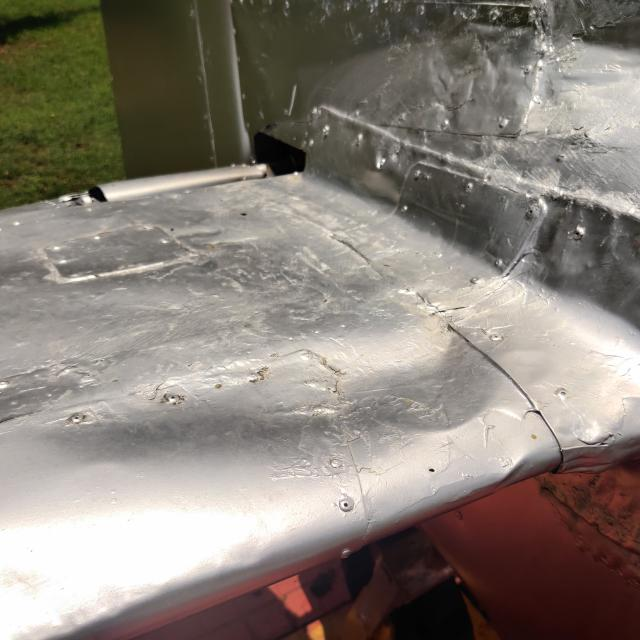dent: (36, 273, 518, 508)
